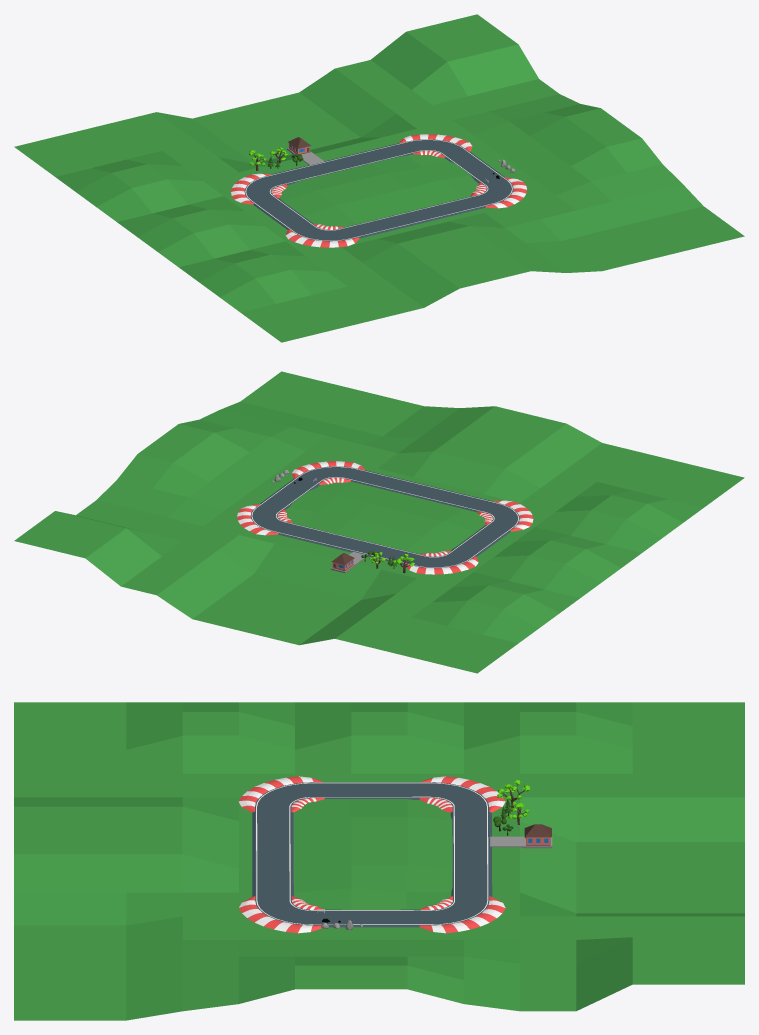
Rendered from environment.fbx.
3 views of the same model, one above another, from view 1: azimuth 30°, elevation 25°; view 2: azimuth 150°, elevation 25°; view 3: azimuth 270°, elevation 25° (orthographic). The views are drawn at different scales.
Parts seen in each view (by area): view 1: Land, Track; view 2: Land, Track; view 3: Land, Track, House.
Boxes of the visible parts, x1,y1,x2,y2 form: Land: [14, 14, 744, 342]; Track: [231, 134, 526, 247]; Land: [14, 371, 744, 673]; Track: [237, 461, 533, 574]; Land: [14, 702, 744, 1020]; Track: [238, 776, 505, 933]; House: [490, 824, 552, 848].
Bounding box in the file's own units: 200 × 14.31 × 200.
